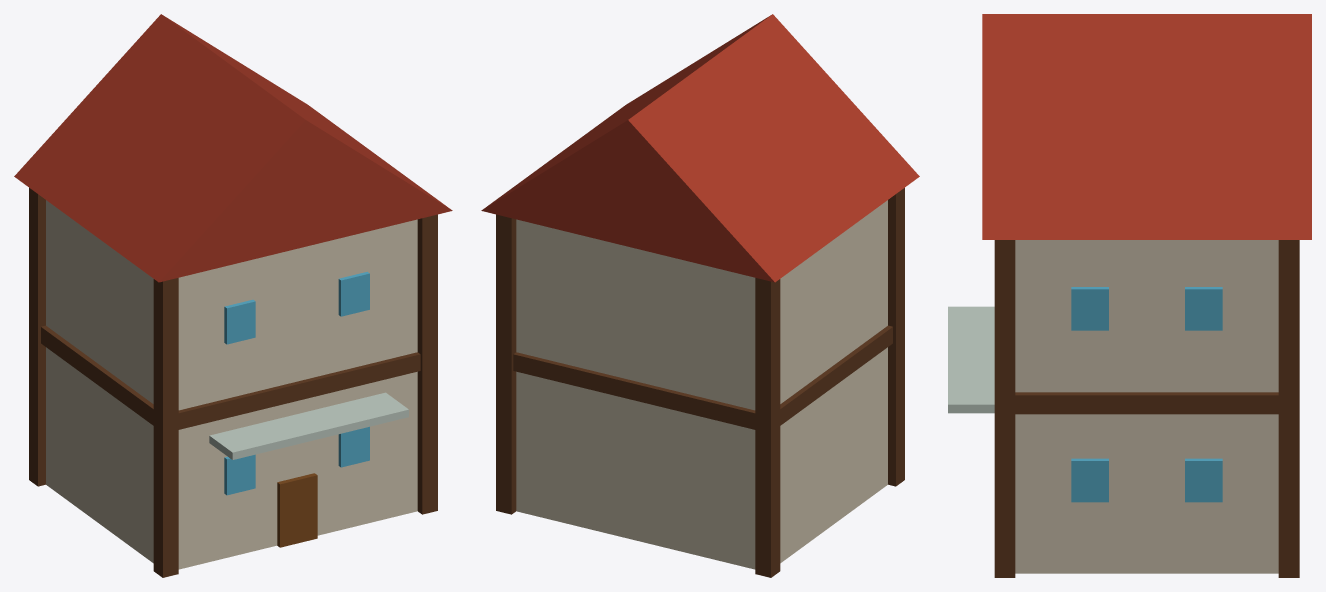
Rendered from wall_house.glb.
3 views of the same model, side by side, from view 1: azimuth 30°, elevation 25°; view 2: azimuth 150°, elevation 25°; view 3: azimuth 270°, elevation 25° (orthographic). The views are drawn at different scales.
Parts seen in each view (by area): view 1: awning; view 2: awning; view 3: awning.
Part boxes in pixels (x1,y1,x2,y2): awning: (14,14,452,577); awning: (481,14,919,577); awning: (948,14,1311,577).
Size of the model in its own units: 2.04 by 2.84 by 1.92.
